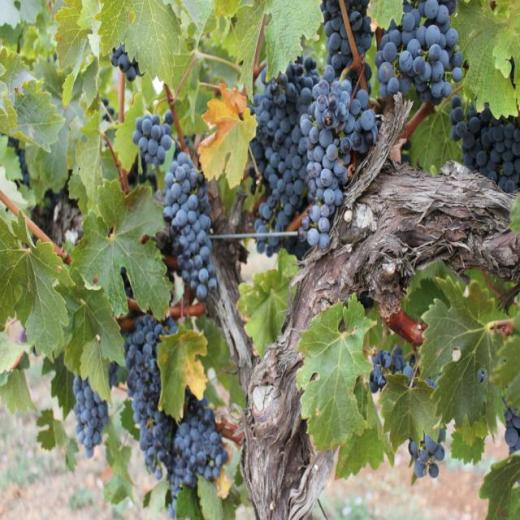Orange: (246, 0, 464, 261), (123, 308, 230, 517), (368, 346, 446, 476), (373, 0, 465, 106), (162, 150, 217, 300), (452, 96, 520, 195), (74, 362, 118, 457), (370, 348, 433, 392), (134, 108, 176, 168), (410, 438, 444, 476), (110, 44, 142, 80), (6, 138, 28, 184), (502, 410, 520, 454)
